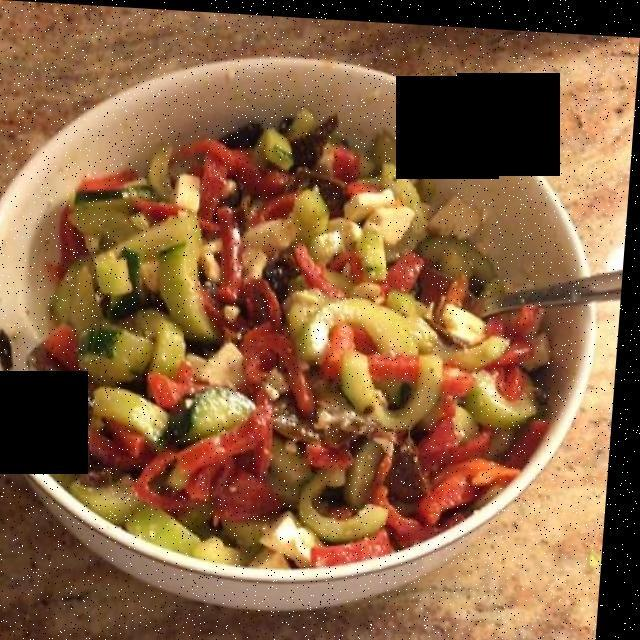salad: (46, 113, 544, 557)
